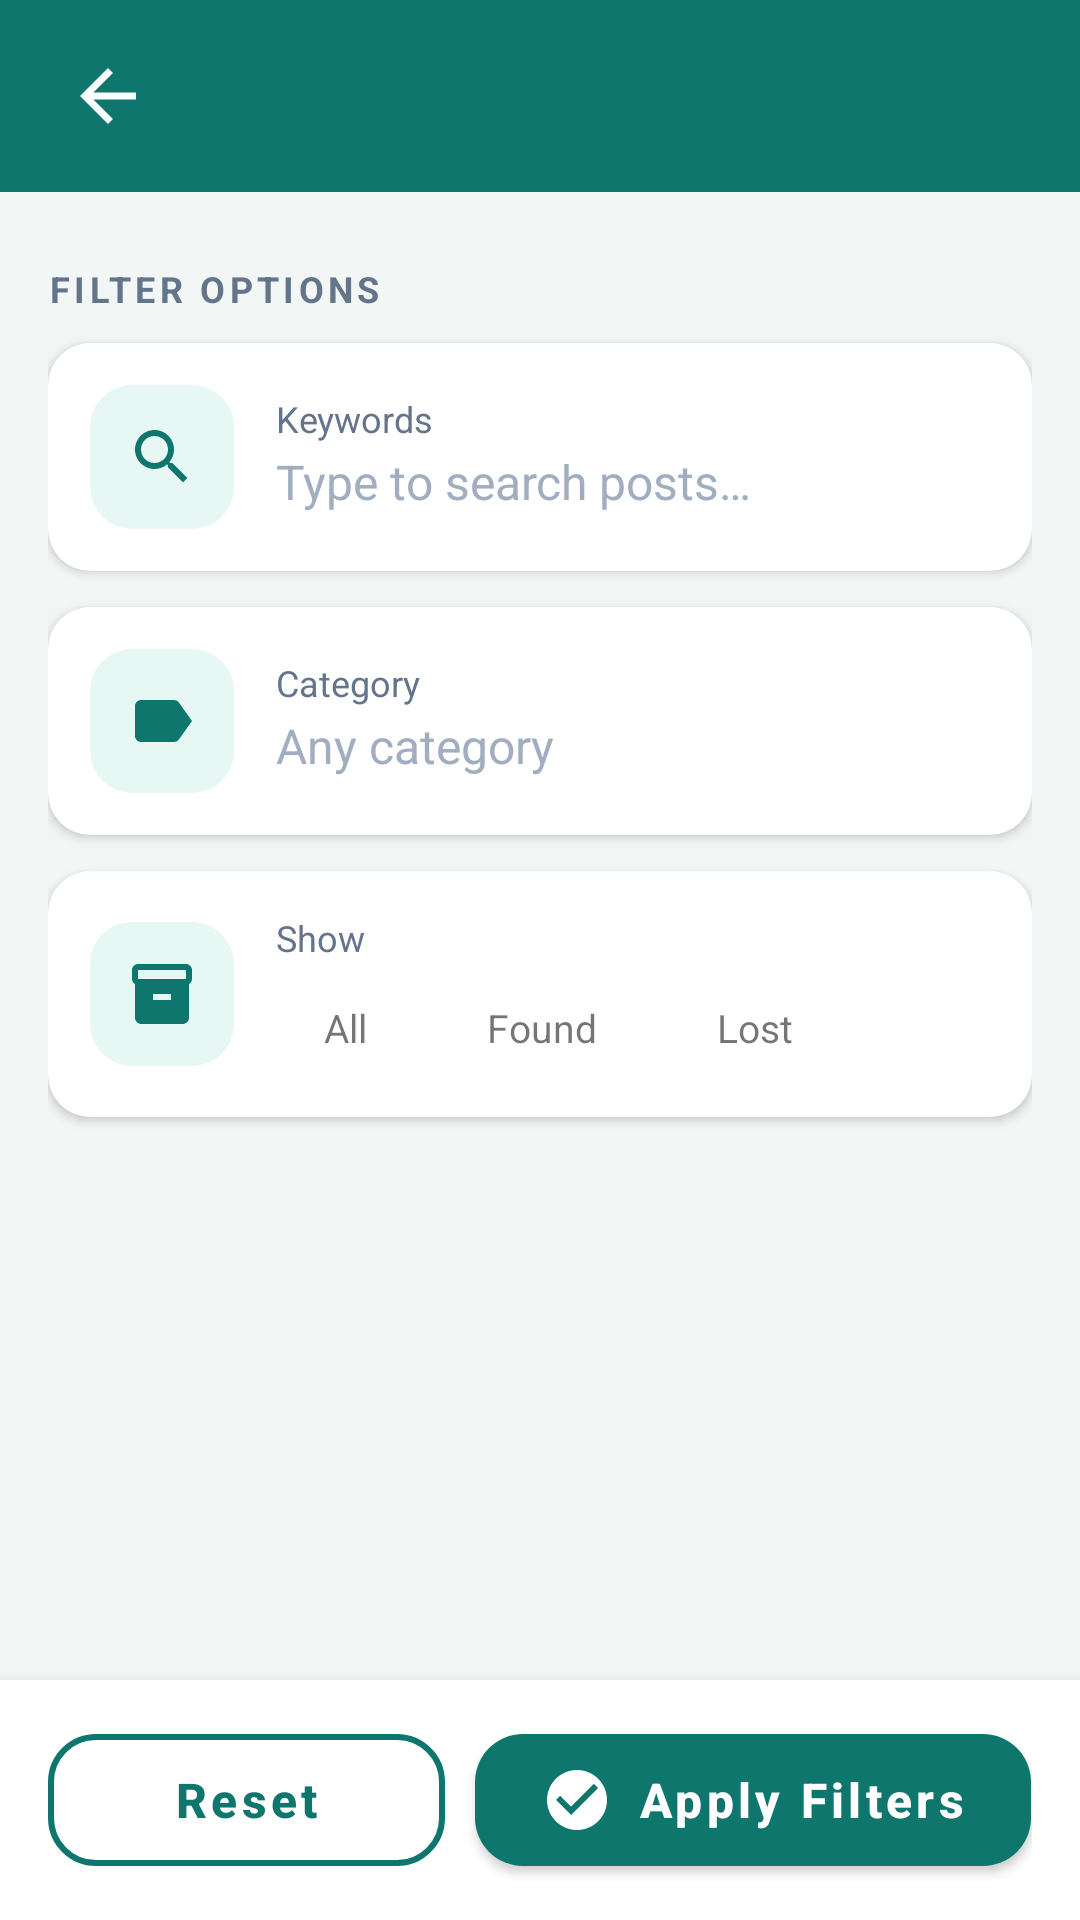

Named icons in this screenshot (1080*1920) and their bounding boxes, [x1, y1, x2, y2]:
Back: [80, 68, 136, 124]
inventory: [90, 922, 234, 1066]
tag: [90, 649, 234, 793]
